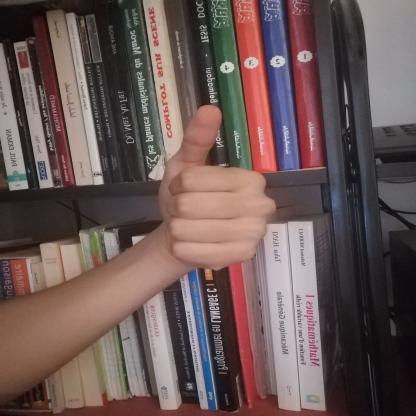ALIF: (137, 95, 290, 274)
